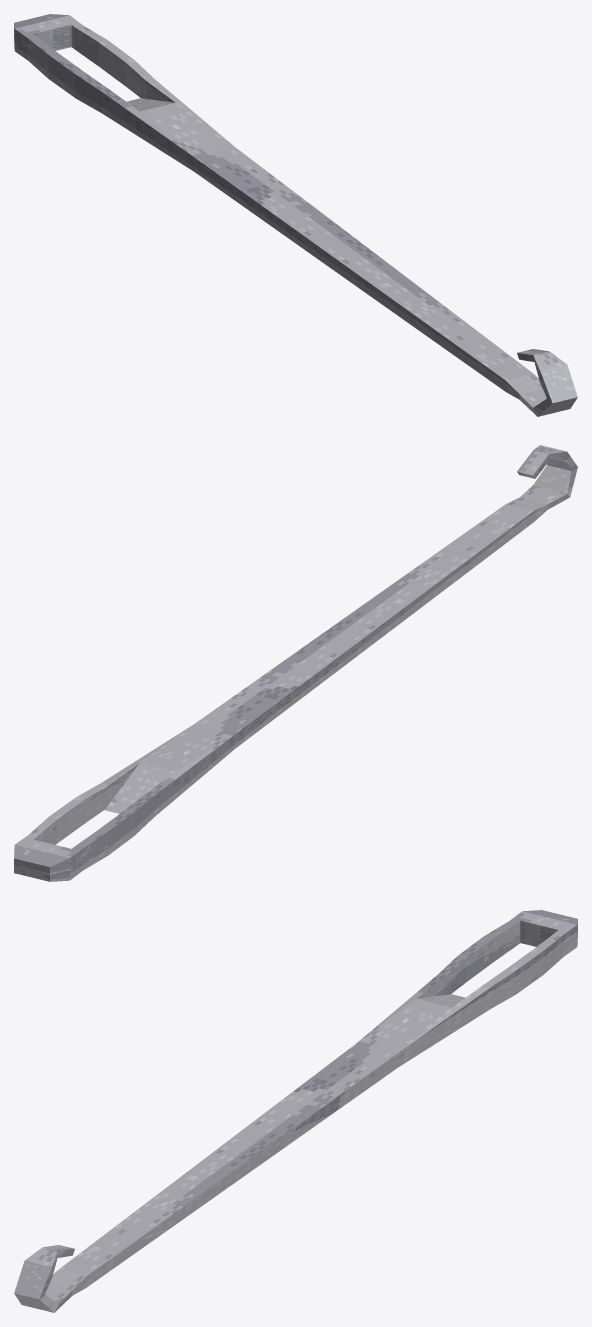
Rendered from Ago.fbx.
3 renders of one model, top to bottom at view 1: azimuth 30°, elevation 25°; view 2: azimuth 150°, elevation 25°; view 3: azimuth 330°, elevation 25°, orthographic.
Visible parts, largest first — view 1: Cube.063; view 2: Cube.063; view 3: Cube.063.
Part boxes in pixels (x1=…): Cube.063: x1=14, y1=14, x2=577, y2=416; Cube.063: x1=14, y1=445, x2=577, y2=881; Cube.063: x1=14, y1=910, x2=577, y2=1312.
Size of the model in its own units: 0.0054 by 0.00498 by 0.0837.
1 material, 1 textured.
